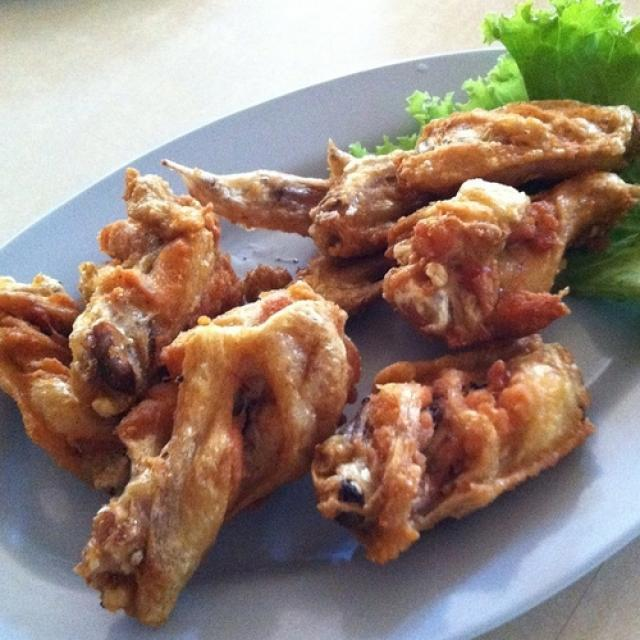Deep fried chicken wing: (32, 90, 610, 592)
